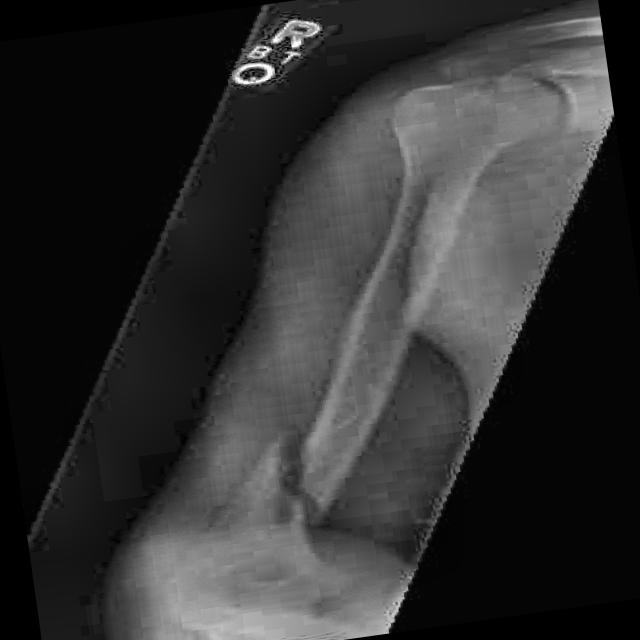humerus: (170, 422, 415, 556)
